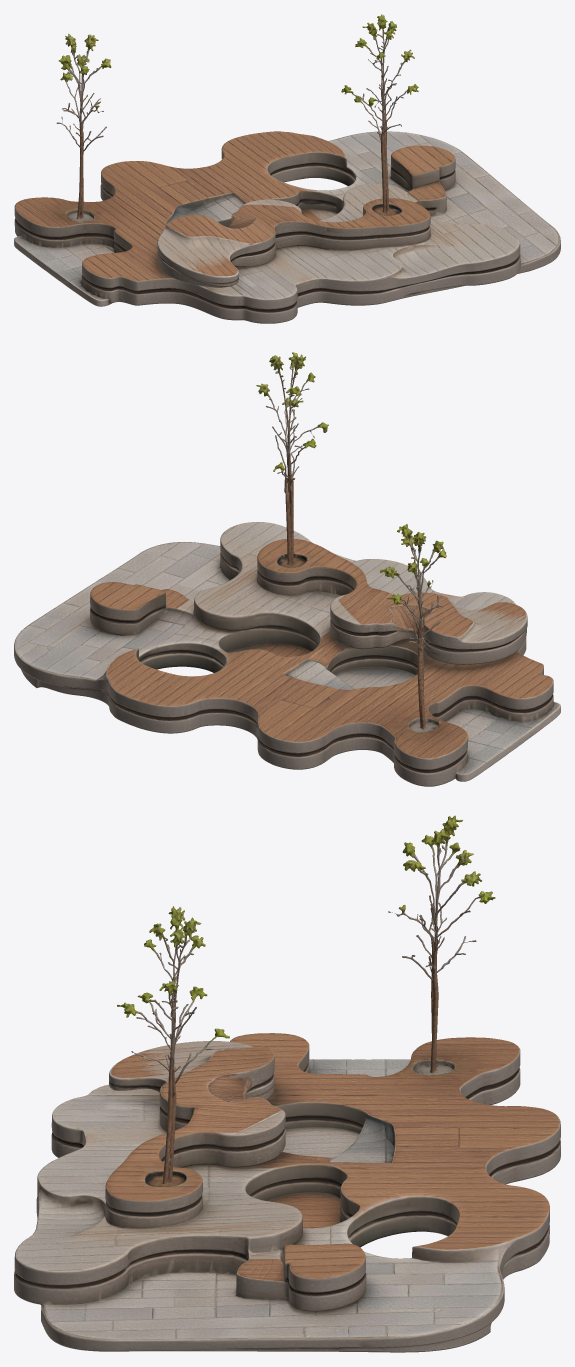
The model's file is deckpuzzle.glb.
3 renders of one model, top to bottom at view 1: azimuth 30°, elevation 25°; view 2: azimuth 150°, elevation 25°; view 3: azimuth 270°, elevation 25°, orthographic. The views are drawn at different scales.
Parts seen in each view (by area): view 1: tripo_node_9644e7e2-6c19-4288-a1f3-ad5e427e5658; view 2: tripo_node_9644e7e2-6c19-4288-a1f3-ad5e427e5658; view 3: tripo_node_9644e7e2-6c19-4288-a1f3-ad5e427e5658.
Part boxes in pixels (x1,y1,x2,y2): tripo_node_9644e7e2-6c19-4288-a1f3-ad5e427e5658: (14,14,560,323); tripo_node_9644e7e2-6c19-4288-a1f3-ad5e427e5658: (14,352,560,786); tripo_node_9644e7e2-6c19-4288-a1f3-ad5e427e5658: (14,815,560,1352).
Bounding box in the file's own units: 0.9103 × 0.5 × 0.7264.
Materials: 1 (1 with a texture image).
